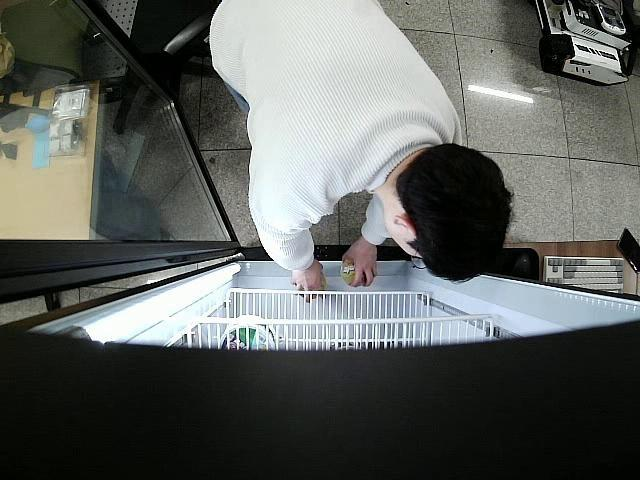04_chapagetti_S: (338, 257, 368, 287)
